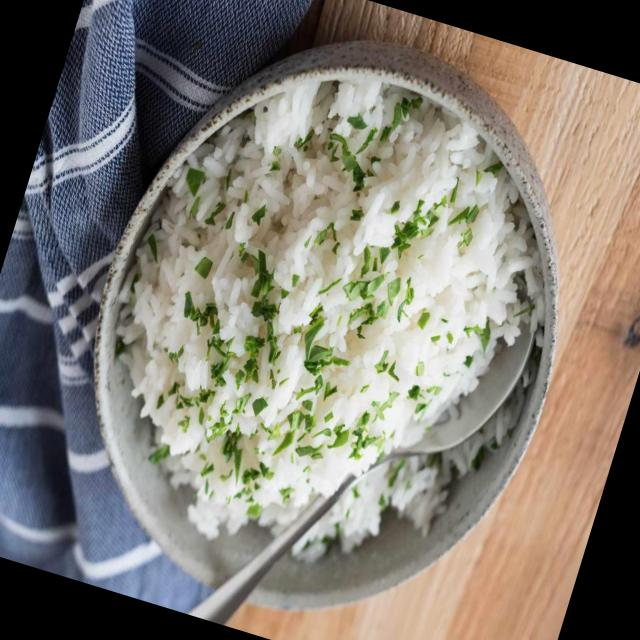rice: (114, 77, 550, 535)
